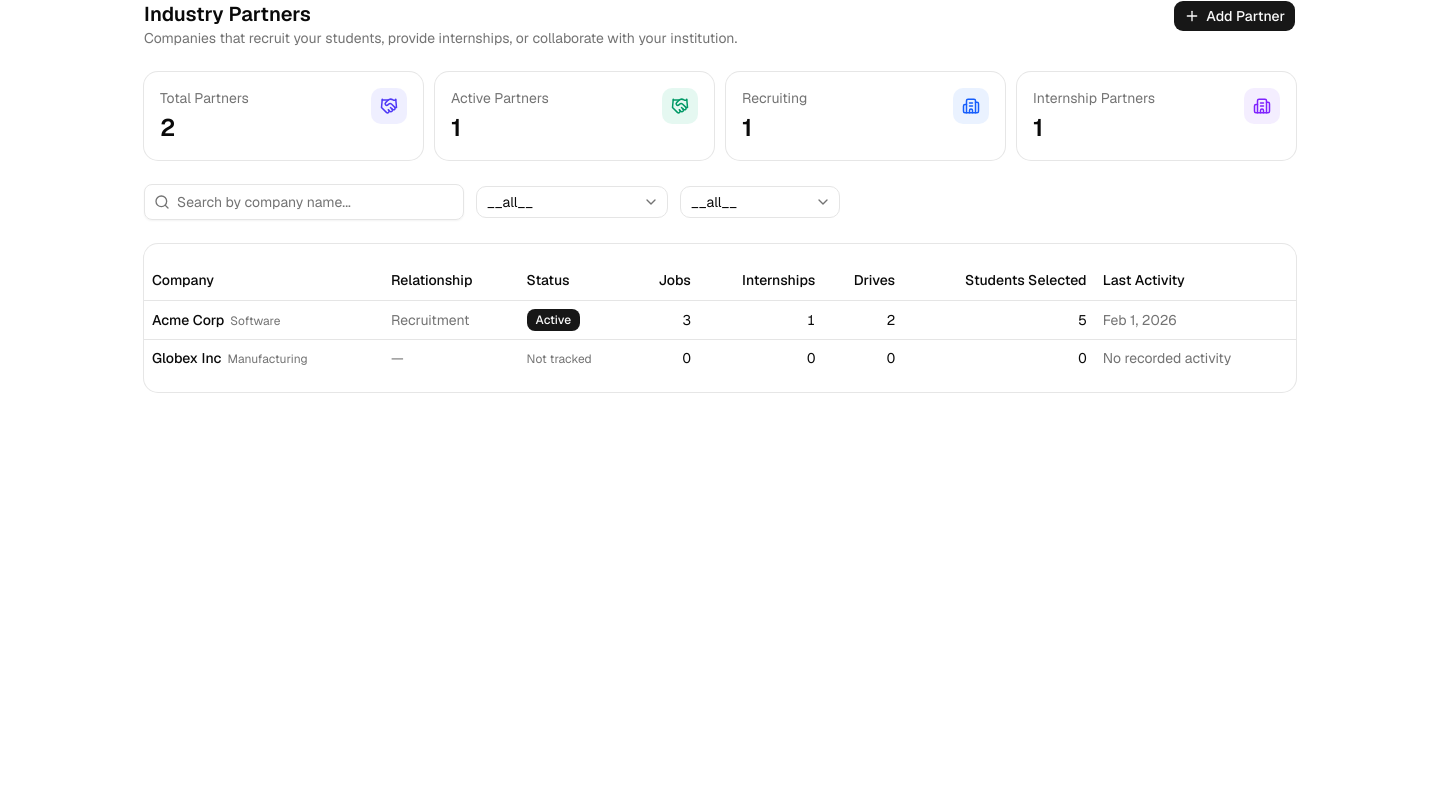
Test: IndustryPartnersList › opens the add-partner form
Expected: the text "Acme Corp" is shown, [152,310,224,328]
Click the button "Add Partner" at {"x": 1235, "y": 16}, box [1173,0,1296,32]
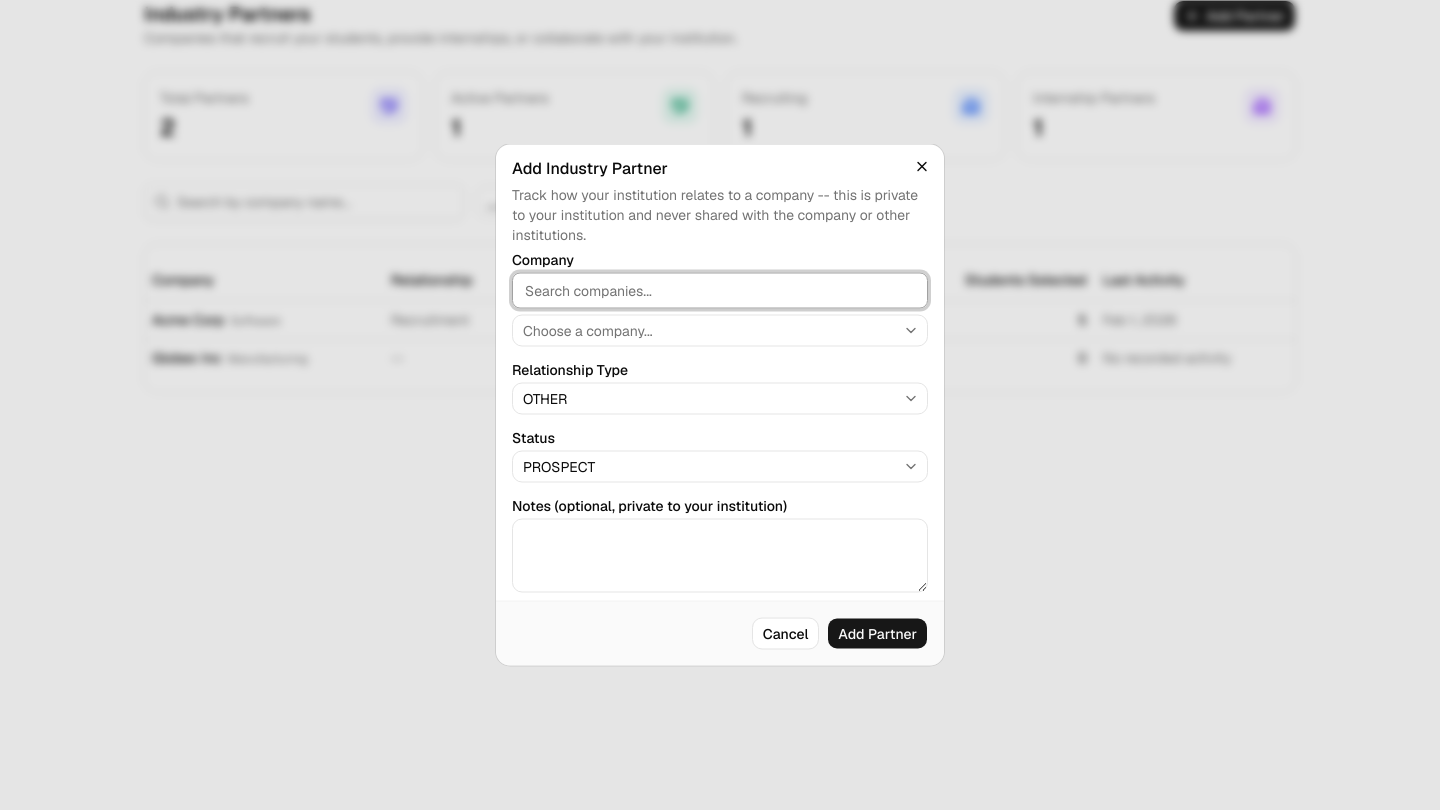
Result: the heading "Add Industry Partner" is shown at [512,158,668,178]
